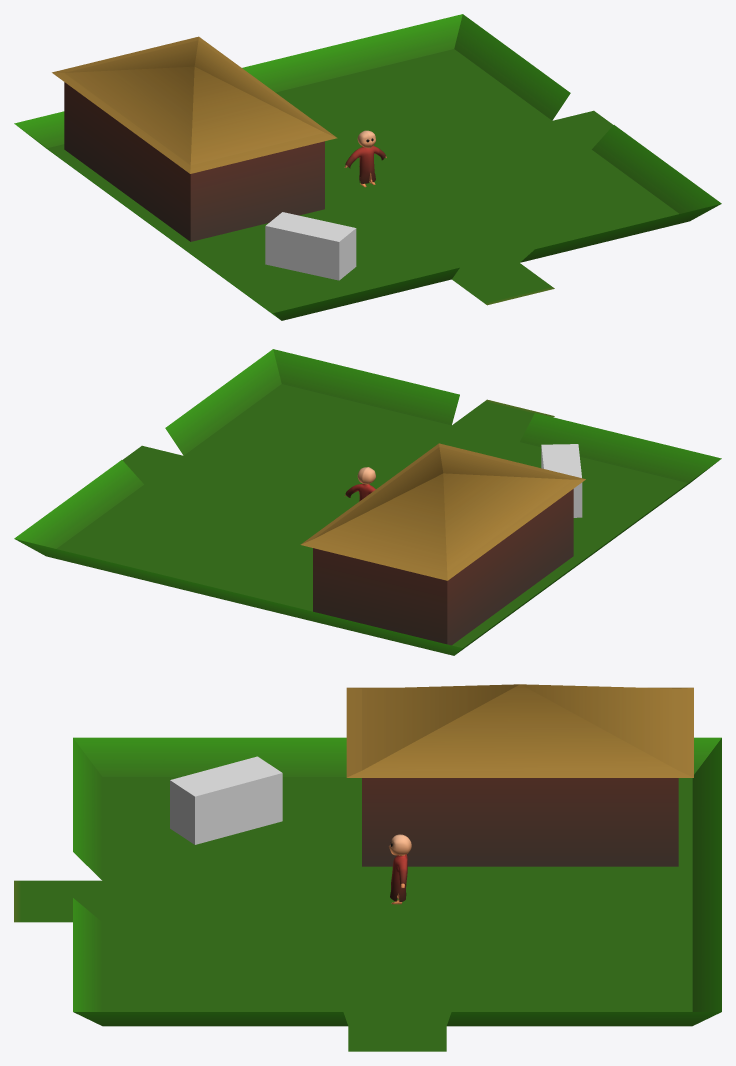
File: Zone6.glb
3 renders of one model, top to bottom at view 1: azimuth 30°, elevation 25°; view 2: azimuth 150°, elevation 25°; view 3: azimuth 270°, elevation 25°, orthographic. The views are drawn at different scales.
Parts seen in each view (by area): view 1: Plane, Cube.002, Cube.001, Cube, Plane.001; view 2: Plane, Cube.002, Cube.001, Cube; view 3: Plane, Cube.002, Cube.001, Cube, Plane.001.
Part boxes in pixels (x1,y1,x2,y2): Plane: (14, 14, 721, 320); Cube.002: (52, 36, 337, 173); Cube.001: (64, 82, 324, 241); Cube: (265, 212, 356, 280); Plane.001: (345, 146, 385, 183); Plane: (14, 349, 721, 655); Cube.002: (300, 443, 585, 580); Cube.001: (313, 489, 573, 645); Cube: (541, 444, 582, 517); Plane: (14, 737, 721, 1051); Cube.002: (346, 684, 693, 777); Cube.001: (362, 778, 678, 866); Cube: (170, 756, 282, 844); Plane.001: (390, 854, 407, 901).
Size of the model in its own units: 23.04 by 5.28 by 24.
2 materials, 2 textured.
